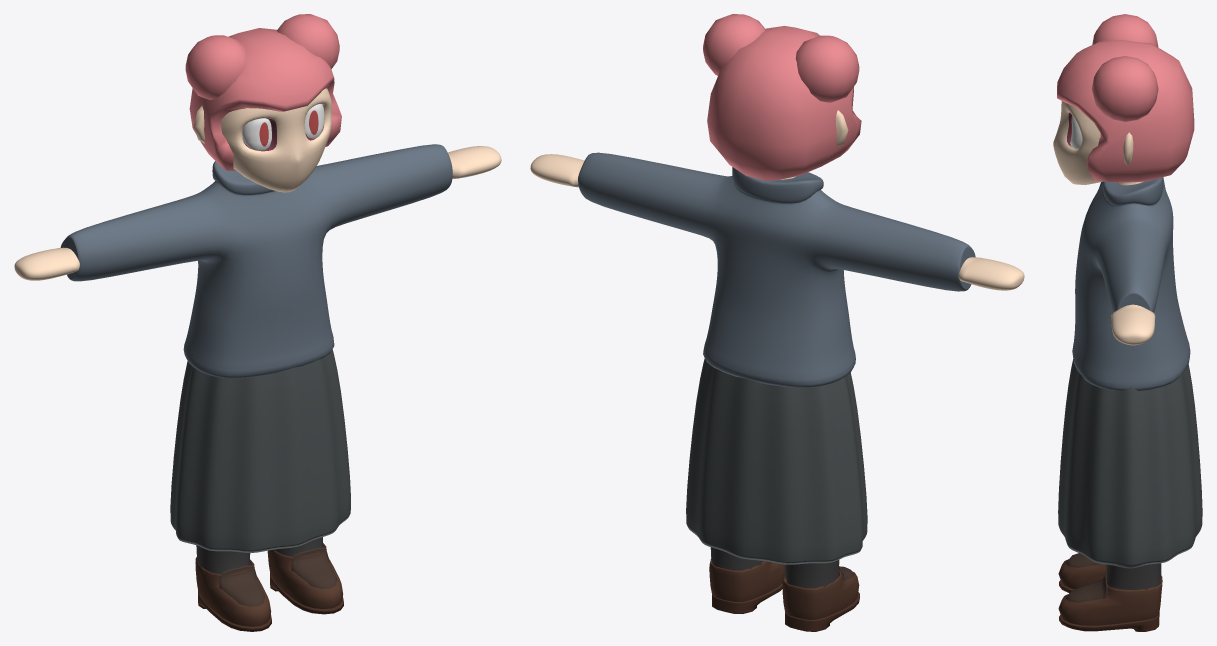
Rendered from player.fbx.
The picture shows the model from 3 angles, left to right: view 1: azimuth 30°, elevation 25°; view 2: azimuth 150°, elevation 25°; view 3: azimuth 270°, elevation 25°; orthographic projection. The views are drawn at different scales.
Visible parts, largest first — view 1: jumper, skirt, hair_, head1, shooe_r1, shooe_r, body, sock_L, eyeL; view 2: jumper, skirt, hair_, shooe_r1, body, shooe_r, sock_L, rock_R; view 3: skirt, jumper, hair_, shooe_r, head1, body, rock_R, shooe_r1, eyeR, ears.
Boxes of the visible parts, box(x1,y1,x2,y2) form: jumper: box(60, 144, 452, 378); skirt: box(170, 349, 350, 552); hair_: box(185, 14, 341, 170); head1: box(220, 88, 331, 192); shooe_r1: box(195, 557, 271, 631); shooe_r: box(267, 543, 343, 614); body: box(14, 146, 501, 280); sock_L: box(196, 545, 250, 574); eyeL: box(242, 118, 271, 150); jumper: box(578, 152, 975, 387); skirt: box(686, 358, 867, 564); hair_: box(703, 14, 861, 180); shooe_r1: box(782, 566, 859, 631); body: box(530, 154, 1024, 290); shooe_r: box(709, 558, 784, 613); sock_L: box(784, 560, 839, 588); rock_R: box(710, 547, 763, 593); skirt: box(1058, 359, 1202, 568); jumper: box(1072, 177, 1190, 391); hair_: box(1057, 14, 1194, 182); shooe_r: box(1058, 570, 1162, 631); head1: box(1053, 101, 1102, 184); body: box(1111, 181, 1155, 345); rock_R: box(1106, 563, 1161, 590); shooe_r1: box(1058, 553, 1106, 593); eyeR: box(1070, 115, 1082, 148); ears: box(1123, 132, 1133, 165).
Bounding box in the file's own units: 194 × 222 × 53.02.
